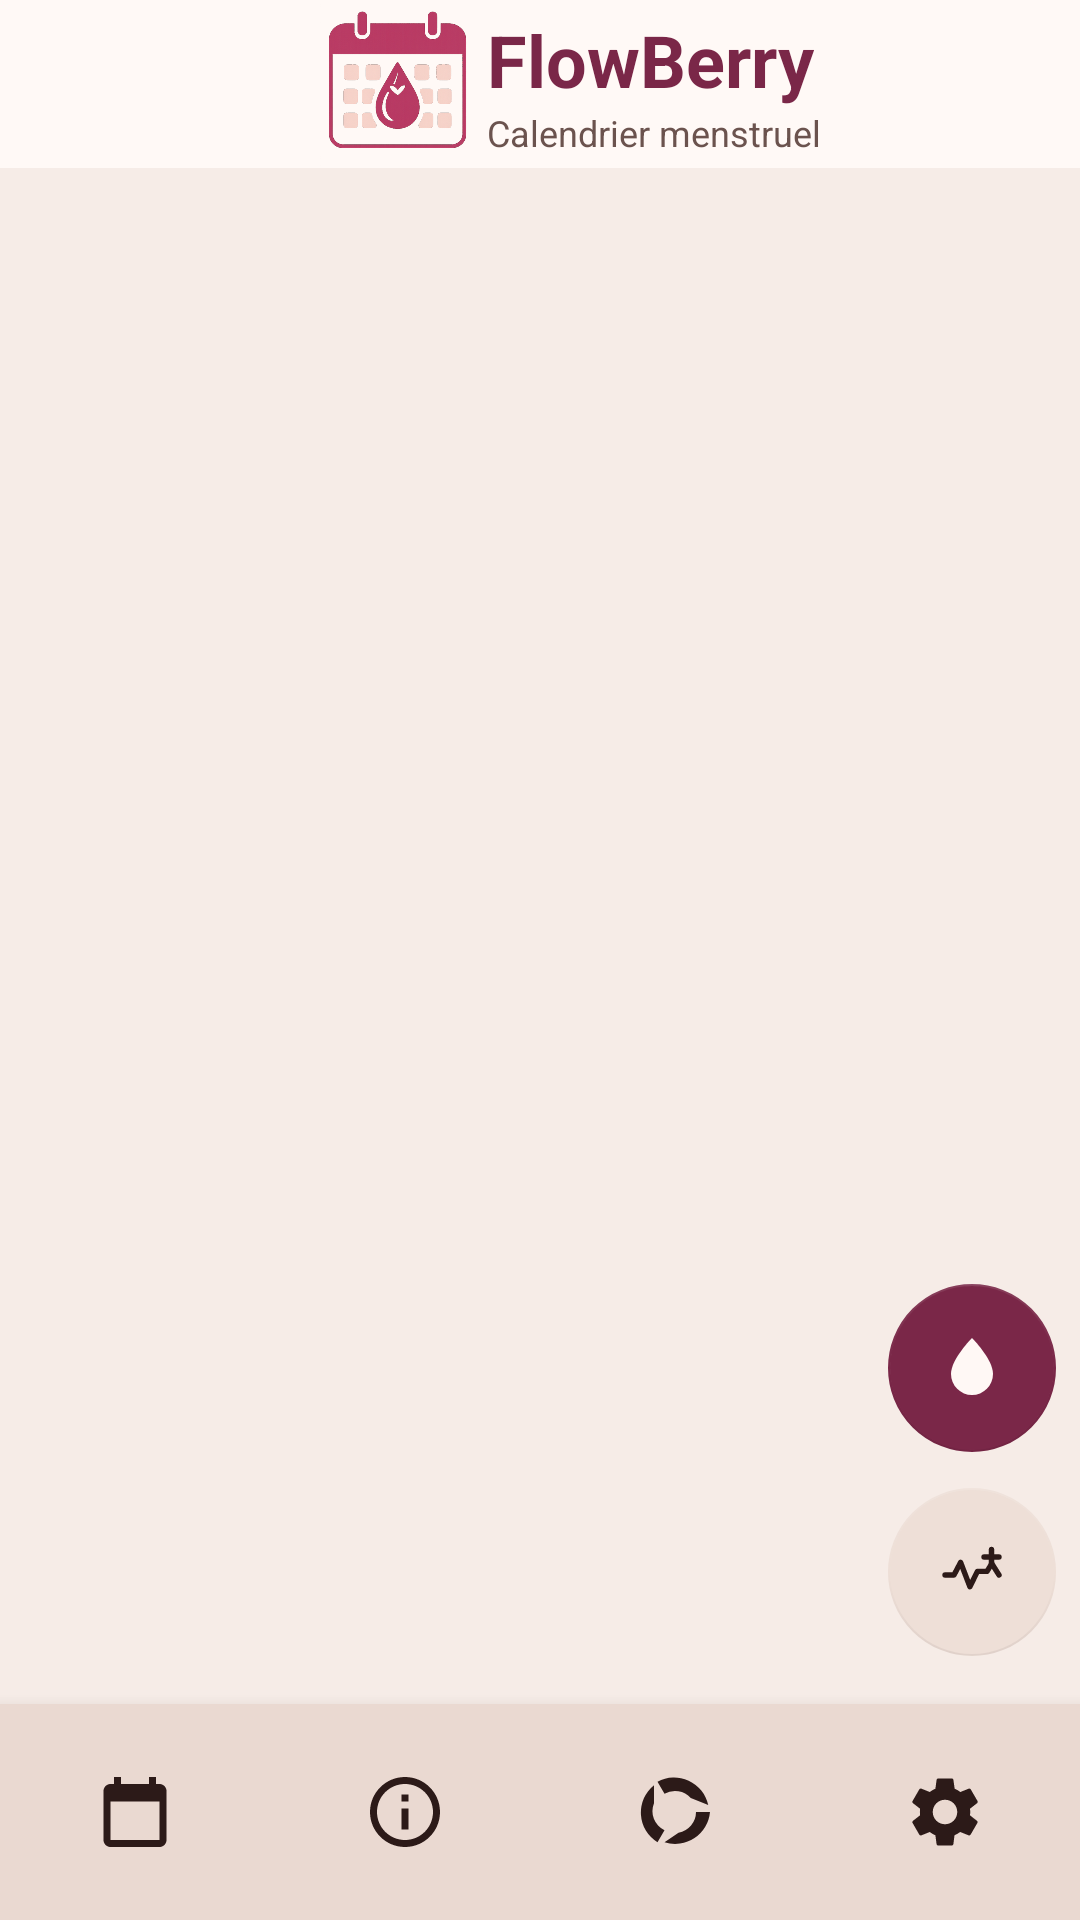

Named icons in this screenshot (1080px×1920px) and their centers, point (x, y):
Ajouter un symptôme: point (972, 1572)
Déclarer mes règles: point (972, 1368)
